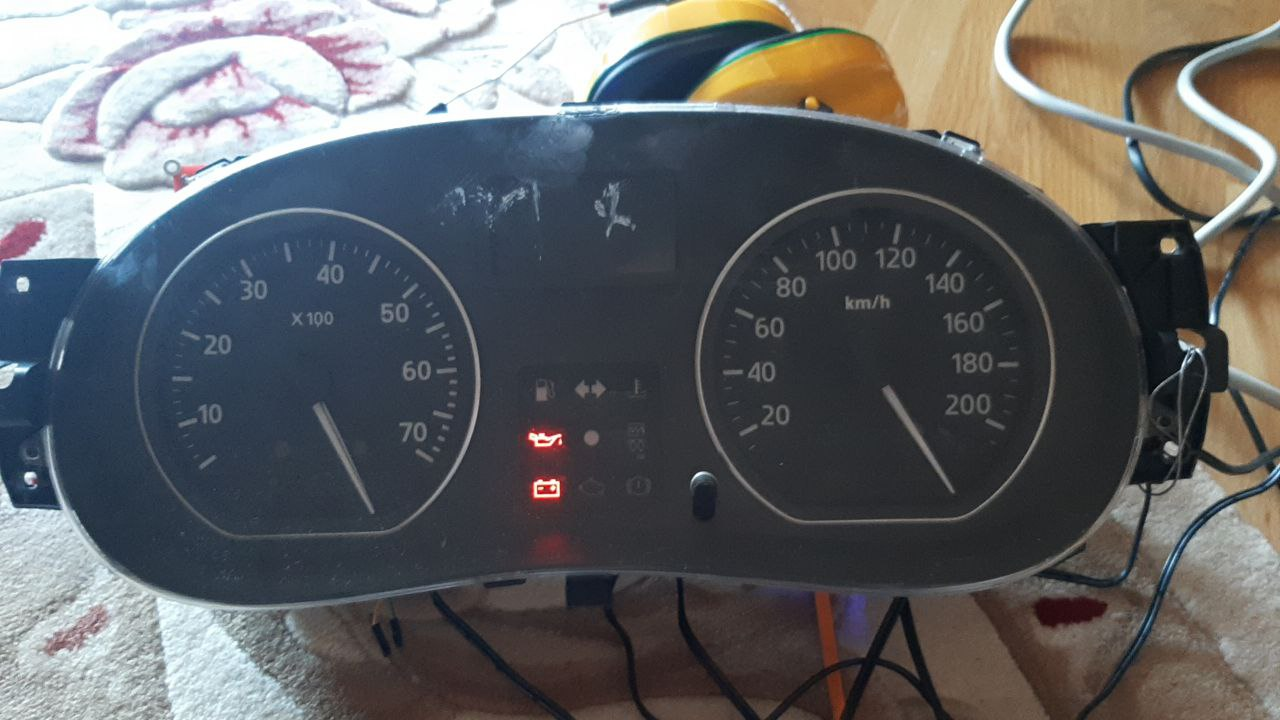accumulator: (528, 476, 566, 503)
oil: (522, 429, 565, 453)
